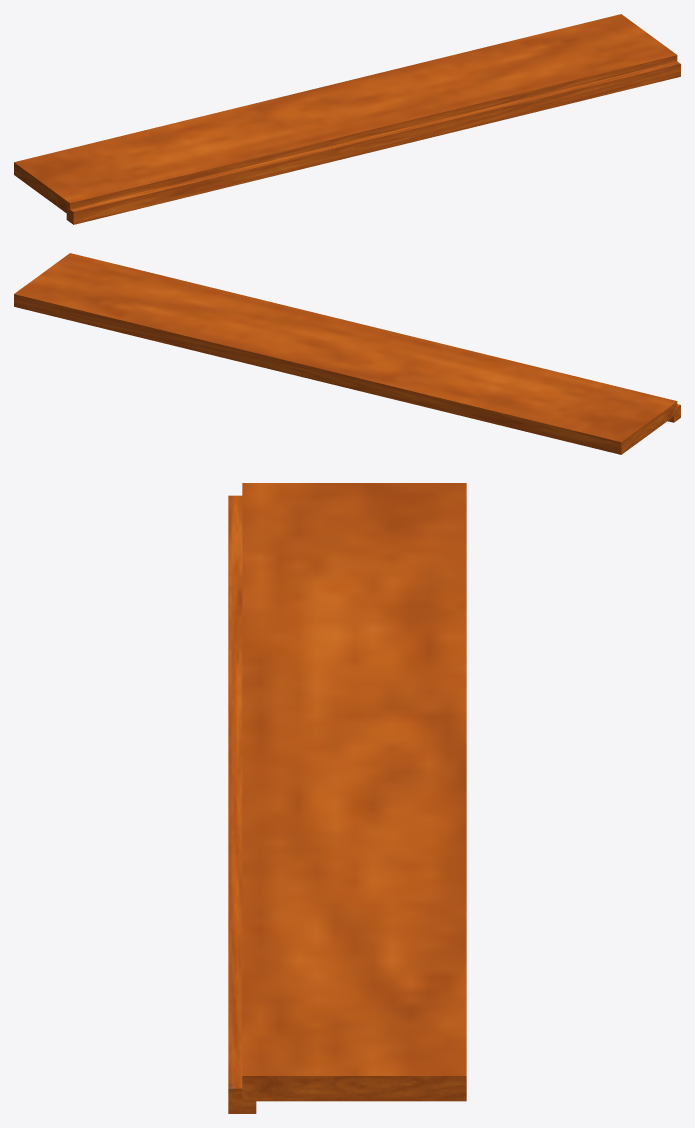
Rendered from Door_Threshold.fbx.
3 views of the same model, one above another, from view 1: azimuth 30°, elevation 25°; view 2: azimuth 150°, elevation 25°; view 3: azimuth 270°, elevation 25° (orthographic). The views are drawn at different scales.
Visible parts, largest first — view 1: Door_Threshold; view 2: Door_Threshold; view 3: Door_Threshold.
Boxes of the visible parts, left/top/right/bottom form: Door_Threshold: left=14, top=14, right=680, bottom=224; Door_Threshold: left=14, top=253, right=680, bottom=454; Door_Threshold: left=228, top=483, right=466, bottom=1113.
Size of the model in its own units: 1 by 0.03 by 0.17.
